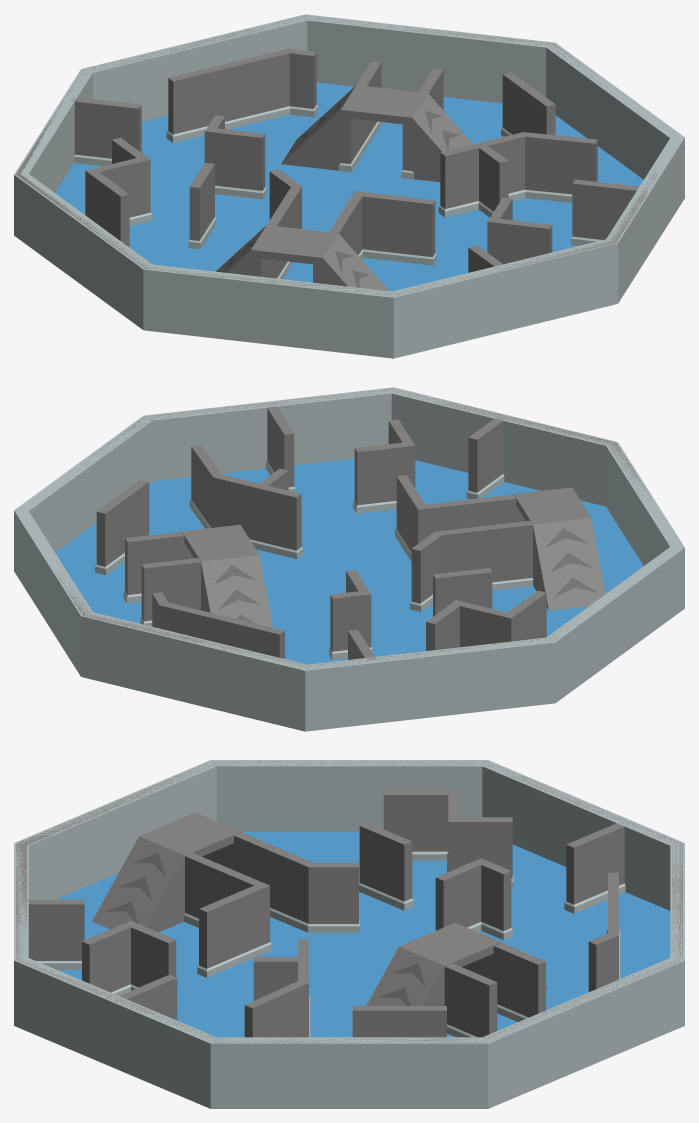
Rendered from Location14.fbx.
The picture shows the model from 3 angles, top to bottom: view 1: azimuth 30°, elevation 25°; view 2: azimuth 150°, elevation 25°; view 3: azimuth 270°, elevation 25°; orthographic projection. The views are drawn at different scales.
Parts seen in each view (by area): view 1: outer_wall.14, wall.14, floor.14, bridge.14; view 2: outer_wall.14, wall.14, floor.14, bridge.14; view 3: outer_wall.14, wall.14, floor.14, bridge.14.
Boxes of the visible parts, x1,y1,x2,y2 form: outer_wall.14: (14,14,684,358); wall.14: (16,15,659,296); floor.14: (55,82,643,291); bridge.14: (216,85,472,291); outer_wall.14: (14,387,684,731); wall.14: (51,388,651,669); floor.14: (55,458,643,664); bridge.14: (182,487,605,627); outer_wall.14: (14,760,684,1108); wall.14: (16,761,682,1042); floor.14: (56,831,670,1037); bridge.14: (92,812,547,1031).
Bounding box in the file's own units: 1700 × 183 × 1700.
